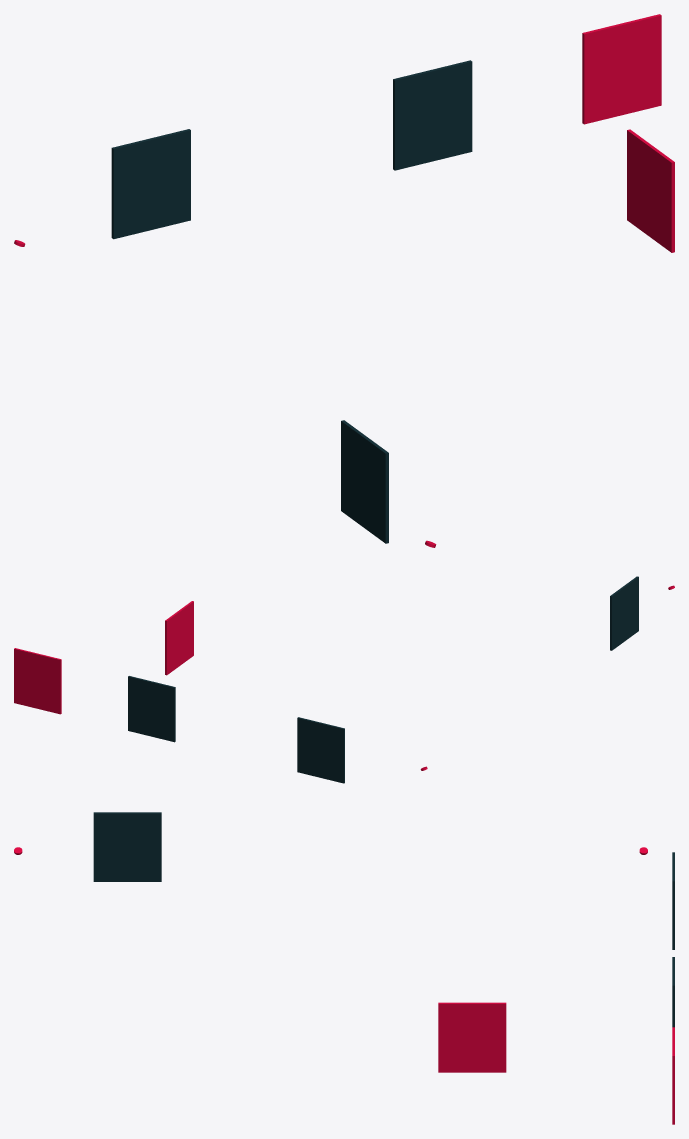
File: functional1.glb
3 renders of one model, top to bottom at view 1: azimuth 30°, elevation 25°; view 2: azimuth 150°, elevation 25°; view 3: azimuth 270°, elevation 25°, orthographic. The views are drawn at different scales.
Parts seen in each view (by area): view 1: dor_2, sdor_1, ssdor_1, dor_1, ssdor_2; view 2: dor_2, ssdor_1, sdor_1, dor_1, ssdor_2; view 3: ssdor_2, dor_1.
Boxes of the visible parts, x1,y1,x2,y2 form: dor_2: [111, 129, 190, 239]; sdor_1: [393, 60, 472, 170]; ssdor_1: [582, 14, 661, 124]; dor_1: [341, 420, 388, 543]; ssdor_2: [627, 129, 674, 252]; dor_2: [297, 717, 344, 783]; ssdor_1: [14, 648, 61, 714]; sdor_1: [128, 676, 175, 742]; dor_1: [610, 576, 638, 650]; ssdor_2: [165, 601, 193, 675]; ssdor_2: [438, 1002, 506, 1072]; dor_1: [93, 812, 161, 881].
Bounding box in the file's own units: 44.02 × 5.7 × 49.73.
